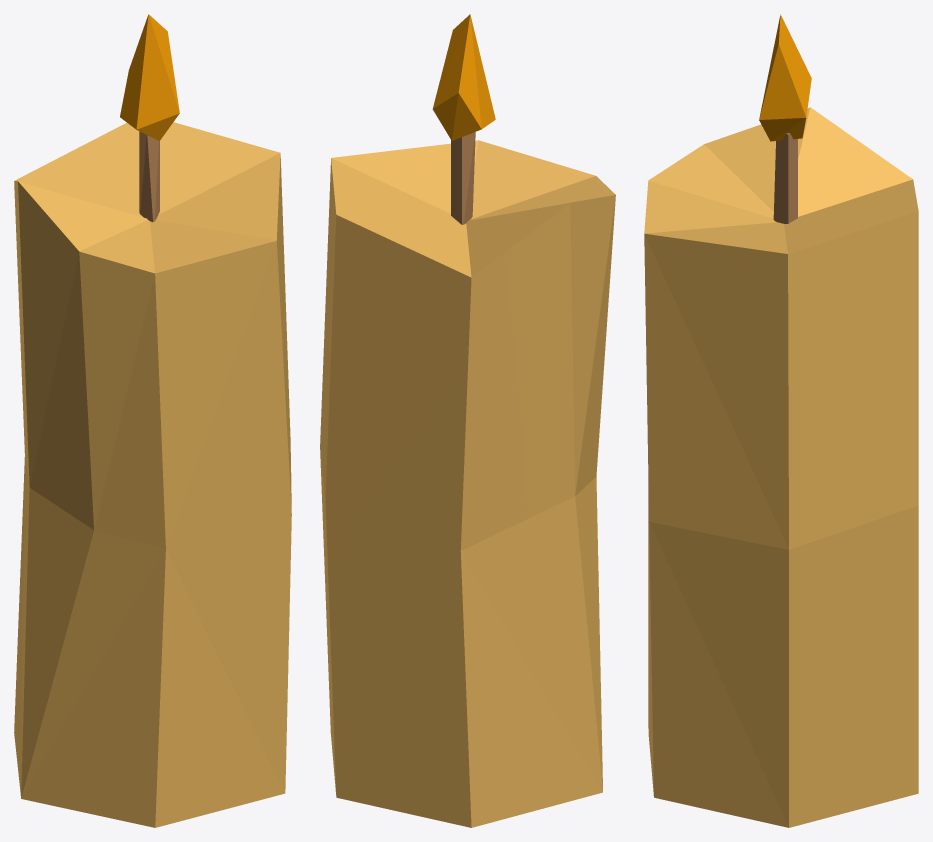
Rendered from Candle_03.fbx.
3 views of the same model, side by side, from view 1: azimuth 30°, elevation 25°; view 2: azimuth 150°, elevation 25°; view 3: azimuth 270°, elevation 25° (orthographic).
Visible parts, largest first — view 1: Candle_03; view 2: Candle_03; view 3: Candle_03.
Boxes of the visible parts, x1,y1,x2,y2 form: Candle_03: (14,14,291,827); Candle_03: (320,14,615,827); Candle_03: (644,14,918,827).
Bounding box in the file's own units: 12.82 × 33.25 × 11.06.
